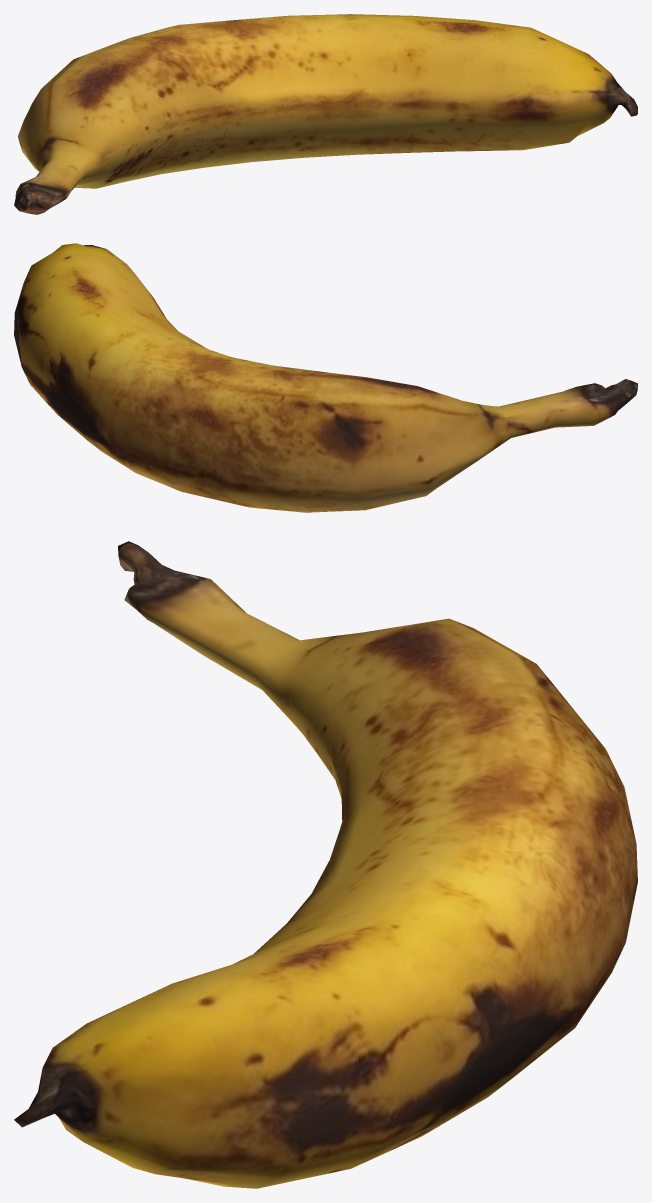
The model's file is A143_Banana_low.fbx.
3 views of the same model, one above another, from view 1: azimuth 30°, elevation 25°; view 2: azimuth 150°, elevation 25°; view 3: azimuth 270°, elevation 25° (orthographic). The views are drawn at different scales.
Visible parts, largest first — view 1: A143_Banana_low; view 2: A143_Banana_low; view 3: A143_Banana_low.
Part boxes in pixels (bbox=[...]): A143_Banana_low: bbox=[14, 14, 637, 214]; A143_Banana_low: bbox=[14, 243, 637, 512]; A143_Banana_low: bbox=[14, 541, 637, 1188].
Size of the model in its own units: 11.33 by 5.74 by 2.5.
Materials: 1 (1 with a texture image).
